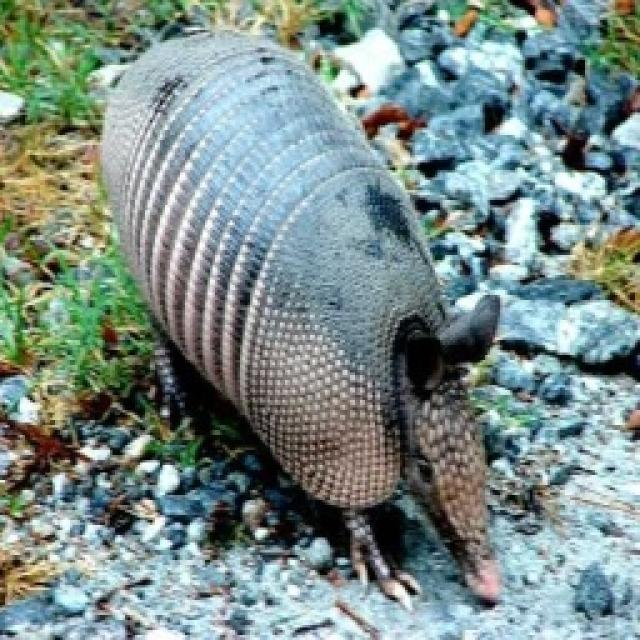not_pig: (95, 25, 505, 610)
